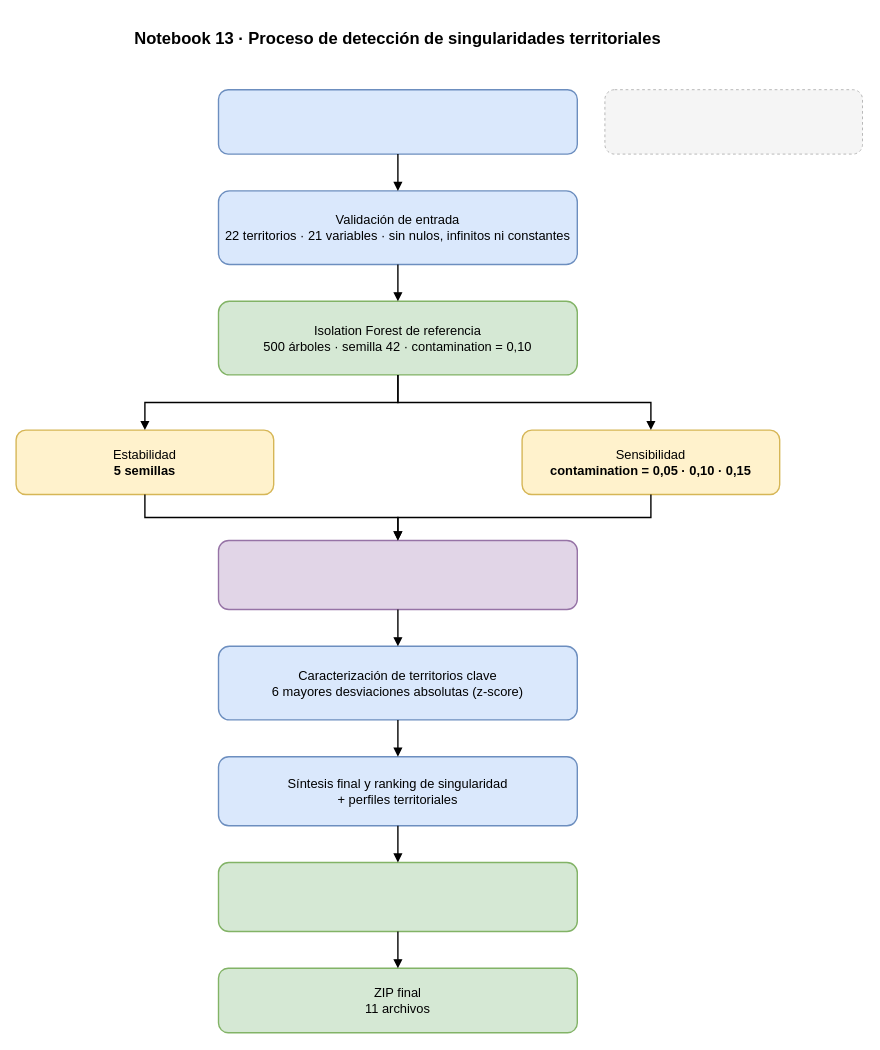
The diagram is 880 pixels wide and 1050 high, and some of its shapes have lost their labels. Each missing label, with the centre of its shape:
"Andorra se mantiene como unidad complementaria y no participa en el ajuste." goes at point (733, 121).
"Exportación 5 tablas · 5 figuras · 1 configuración" goes at point (397, 896).
"Notebook 12 Matriz estandarizada 22 × 21" goes at point (397, 121).
"Síntesis de robustez territorial semillas + umbrales" goes at point (397, 574).
